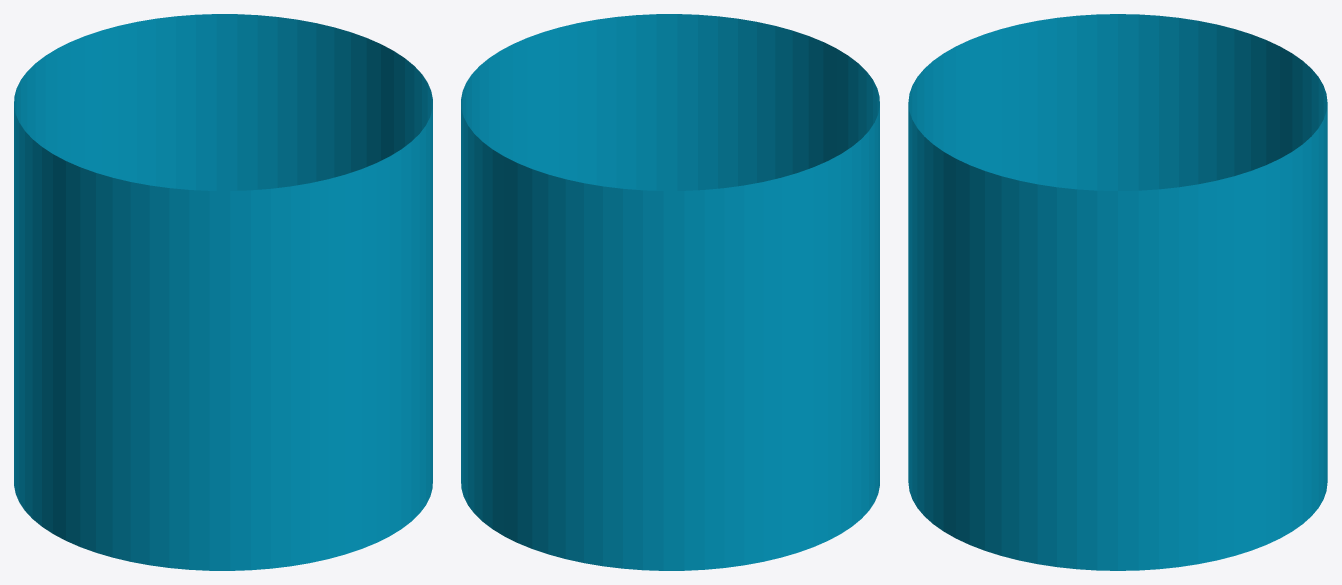
3 views of the same model, side by side, from view 1: azimuth 30°, elevation 25°; view 2: azimuth 150°, elevation 25°; view 3: azimuth 270°, elevation 25° (orthographic).
Visible parts, largest first — view 1: Cylinder; view 2: Cylinder; view 3: Cylinder.
Part boxes in pixels (x1,y1,x2,y2): Cylinder: (14, 14, 432, 570); Cylinder: (461, 14, 879, 570); Cylinder: (908, 14, 1327, 570).
Size of the model in its own units: 2 by 2 by 2.
